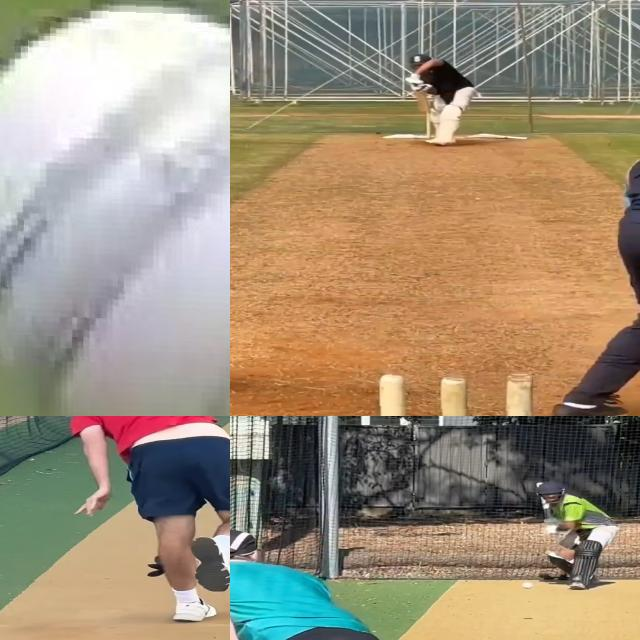Cricket ball: (0, 0, 230, 416), (519, 582, 536, 589)
Stumps: (378, 372, 532, 416)
